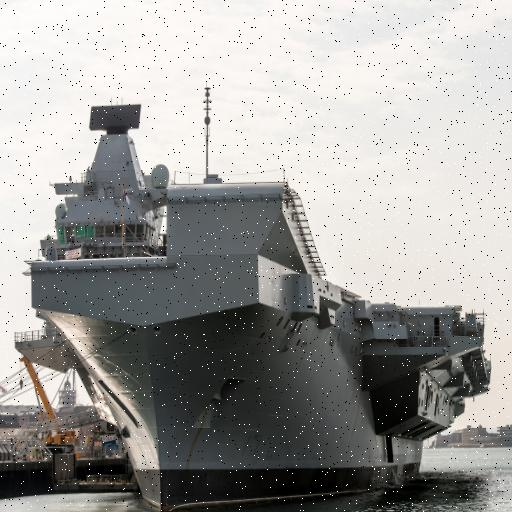Portanaves: (15, 37, 499, 512)
